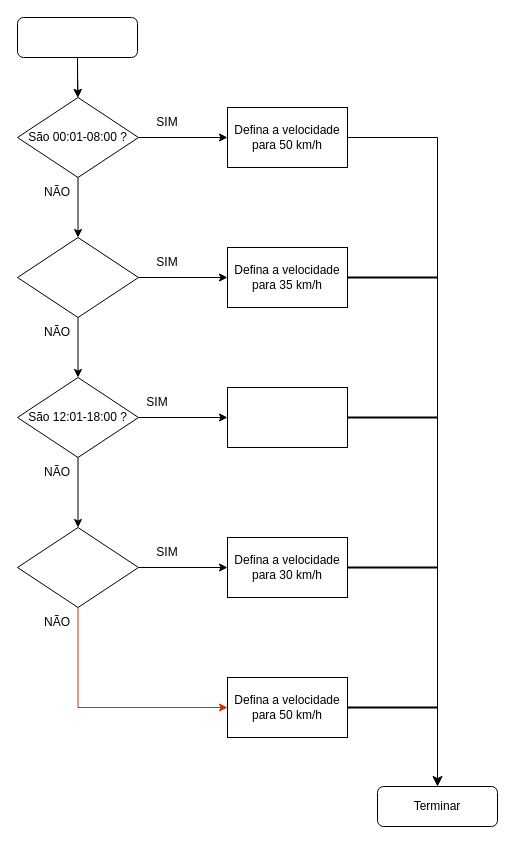
The diagram is 515 pixels wide and 844 high, and some of its shapes have lost their labels. Here are the shapes that lost their labels. From the top down, the centre of each, then its label:
At [77,37]: "Iniciar".
At [77,277]: "São 08:01-12:00 ?".
At [287,417]: "Defina a velocidade para 42 km/h".
At [77,567]: "São 18:01-22:00 ?".
